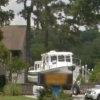Boat: (26, 49, 85, 90)
